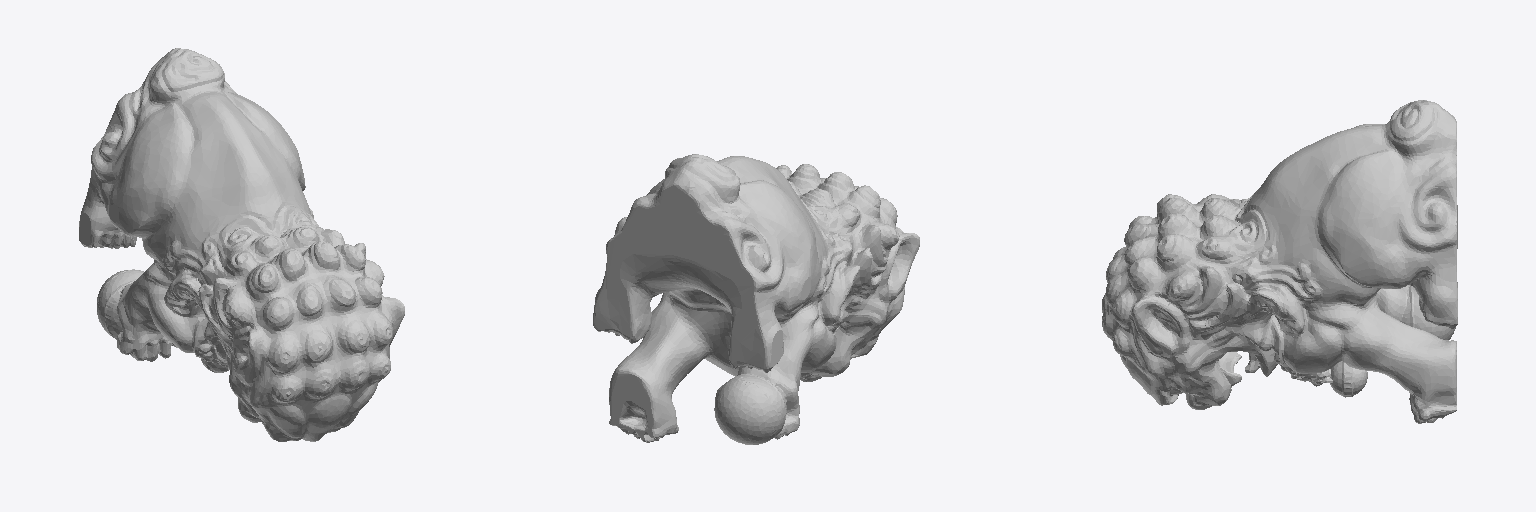
The model's file is lion.obj.
3 views of the same model, side by side, from view 1: azimuth 30°, elevation 25°; view 2: azimuth 150°, elevation 25°; view 3: azimuth 270°, elevation 25° (orthographic).
Size of the model in its own units: 7.03 by 11.4 by 12.06.